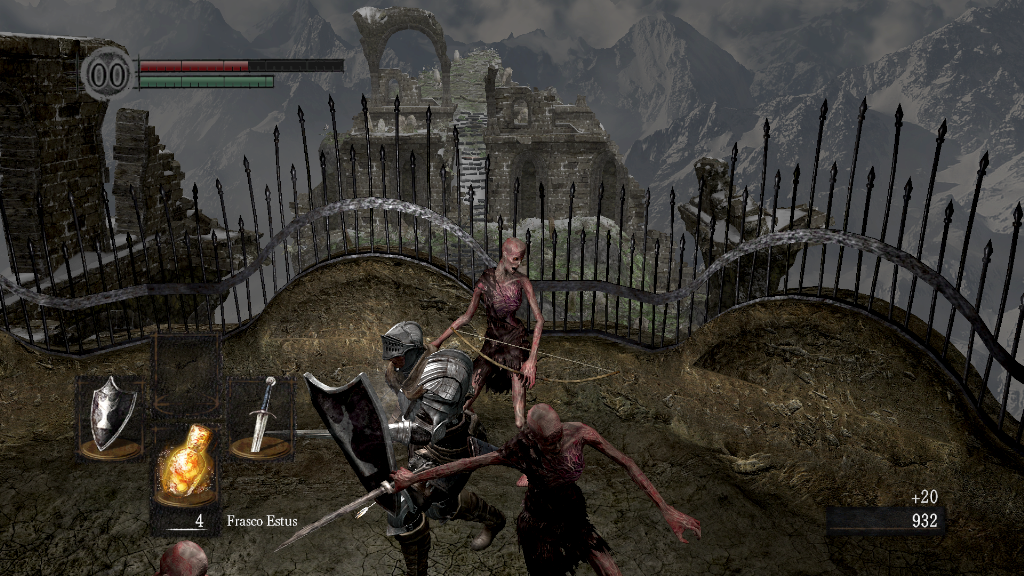health: (138, 58, 343, 71)
hollow: (385, 403, 705, 576), (429, 236, 548, 434)
humanity: (80, 45, 136, 102)
player: (259, 321, 507, 576)
souls: (825, 506, 945, 536)
stamina: (138, 74, 274, 88)
